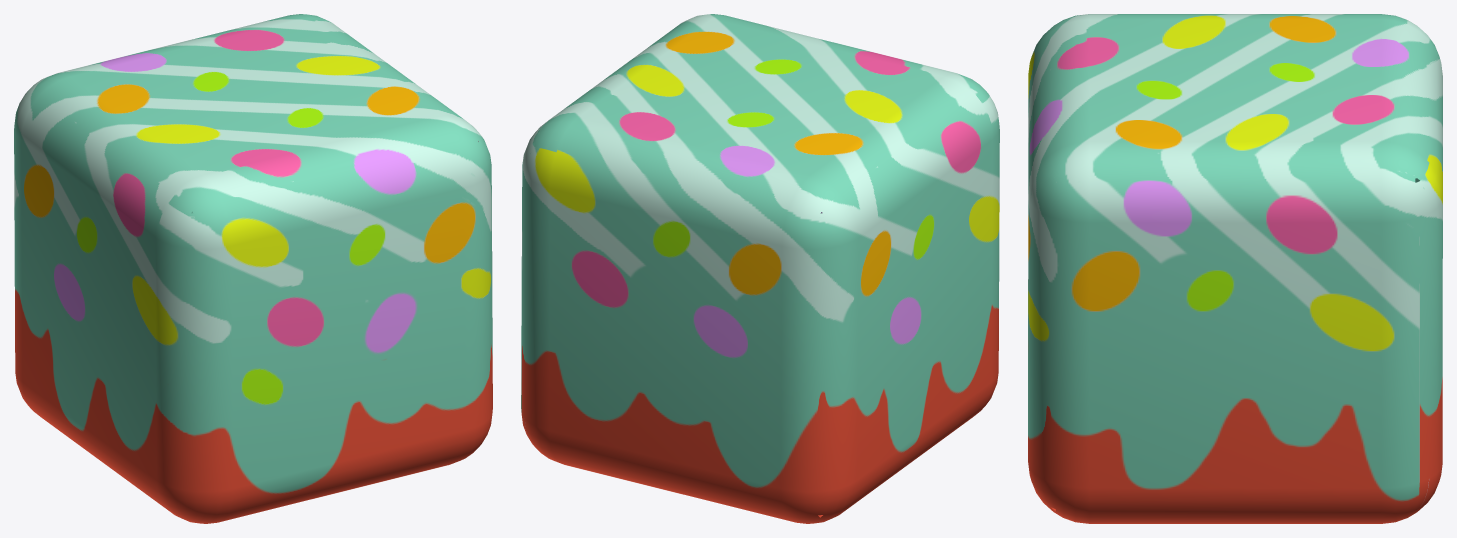
The model's file is SPblock_AppleCaramelGhost.fbx.
3 renders of one model, left to right at view 1: azimuth 30°, elevation 25°; view 2: azimuth 150°, elevation 25°; view 3: azimuth 270°, elevation 25°, orthographic. The views are drawn at different scales.
Visible parts, largest first — view 1: 큐브; view 2: 큐브; view 3: 큐브.
Part boxes in pixels (left/top/right/bottom): 큐브: left=14, top=14, right=492, bottom=523; 큐브: left=521, top=14, right=999, bottom=523; 큐브: left=1028, top=14, right=1442, bottom=523.
Bounding box in the file's own units: 30508 × 30512 × 30403.
